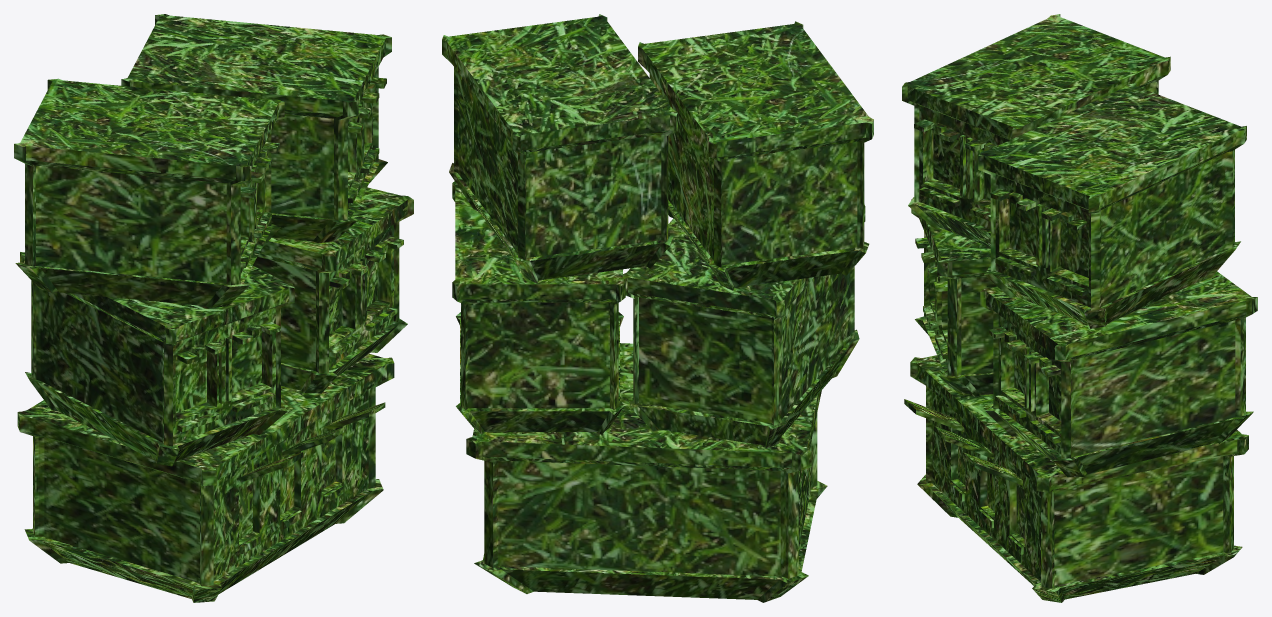
File: Apartment.fbx
3 views of the same model, side by side, from view 1: azimuth 30°, elevation 25°; view 2: azimuth 150°, elevation 25°; view 3: azimuth 270°, elevation 25° (orthographic). The views are drawn at different scales.
Parts seen in each view (by area): view 1: Plane.021; view 2: Plane.021; view 3: Plane.021.
Boxes of the visible parts, x1,y1,x2,y2 form: Plane.021: (14, 14, 413, 602); Plane.021: (442, 14, 873, 602); Plane.021: (902, 14, 1257, 602).
Size of the model in its own units: 11885 by 12898 by 9565.
1 material, 1 textured.
